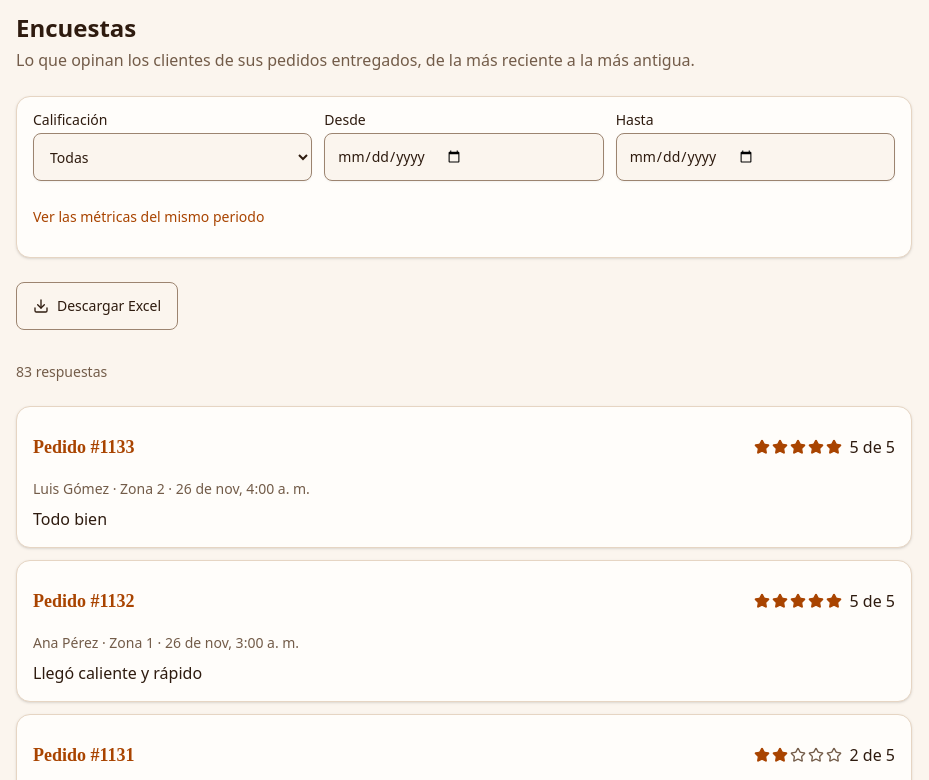
Test: SurveysView › un error al exportar se explica y no se descarga un archivo incompleto
Click the button "Descargar Excel" at (97, 306), box top-left (16, 282), bottom-right (178, 330)
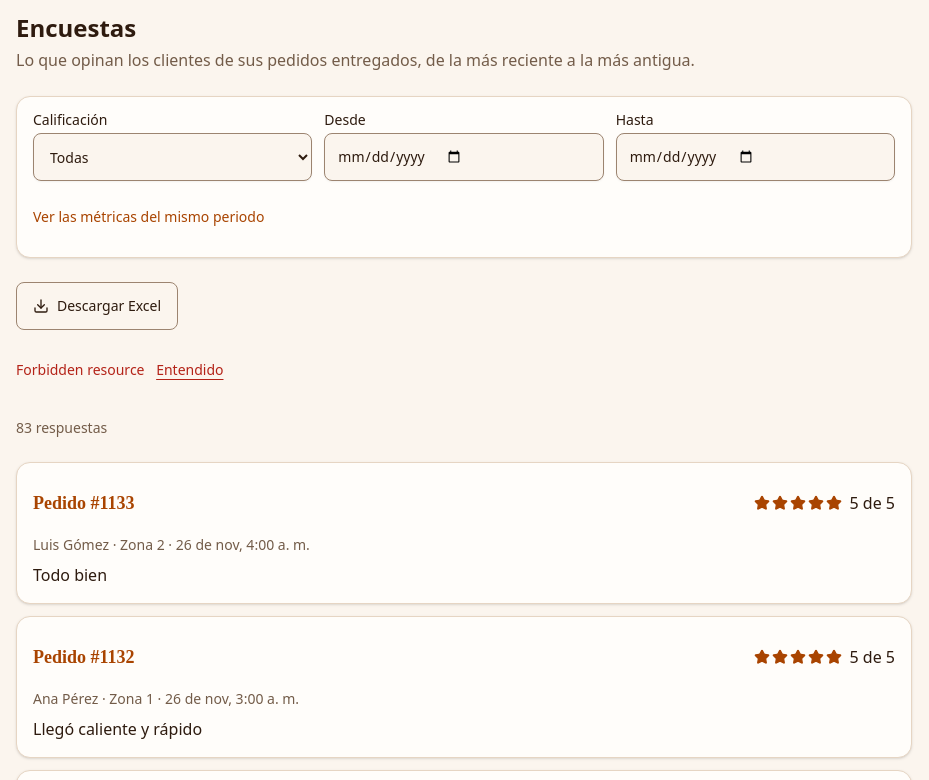
Now the message "Forbidden resource Entendido" is shown, box top-left (16, 346), bottom-right (232, 394)
